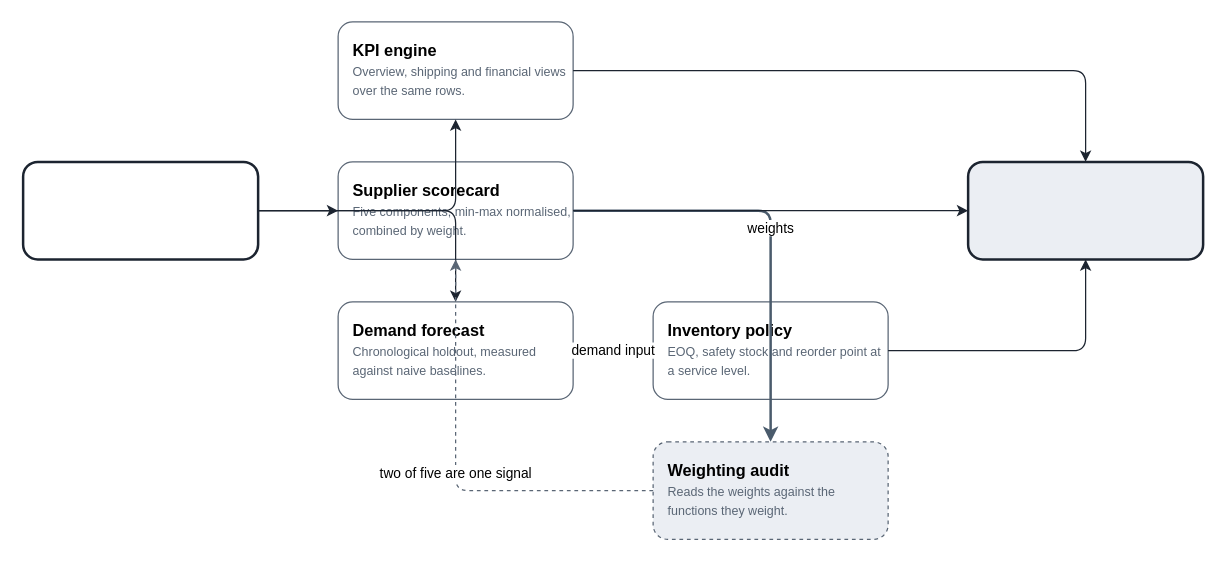
This 1225x561 diagram has some shape labels left out. The shapes that lost their labels are listed below. From the top down, each one's centre as x and y in pixels, then its label:
pixel 140 210: Order table Schema validated and every column profiled before use.
pixel 1085 210: Dashboard Publishes no business metric; the repository versions code only.
